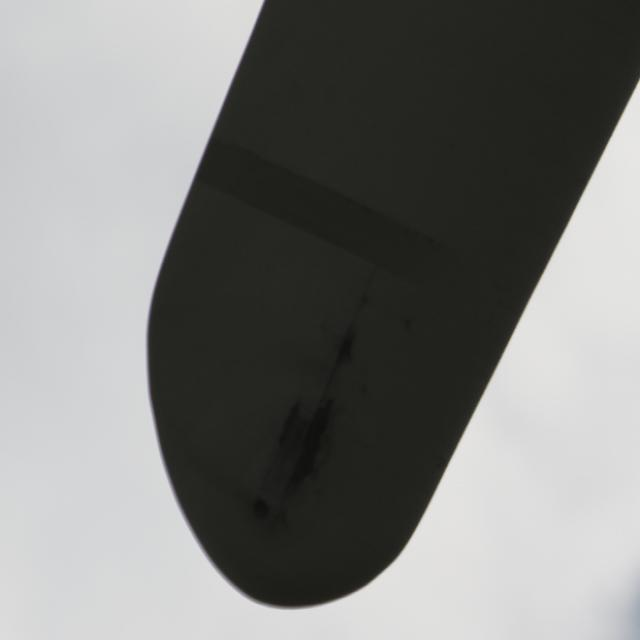Crack: (255, 279, 386, 523)
